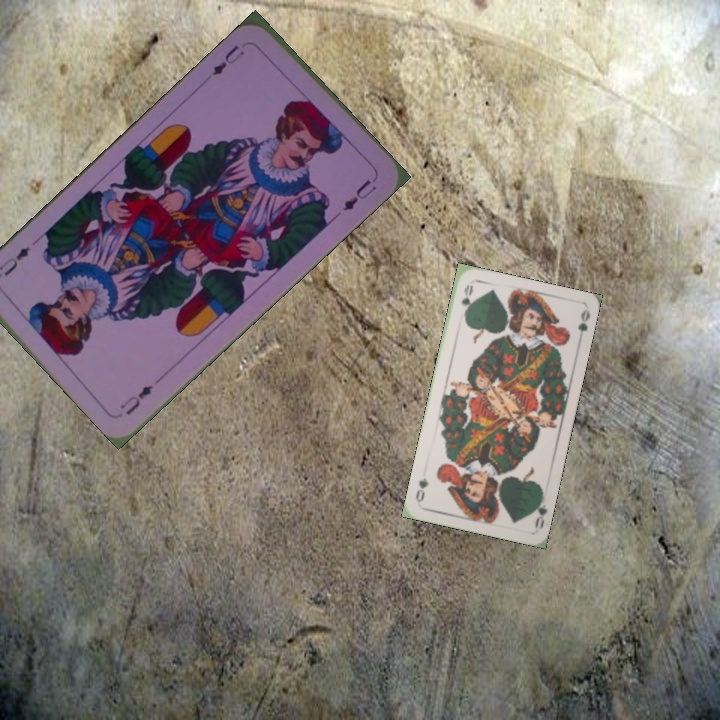EU: (208, 40, 248, 79), (115, 380, 156, 418)
GO: (529, 490, 550, 531), (457, 281, 475, 321)
